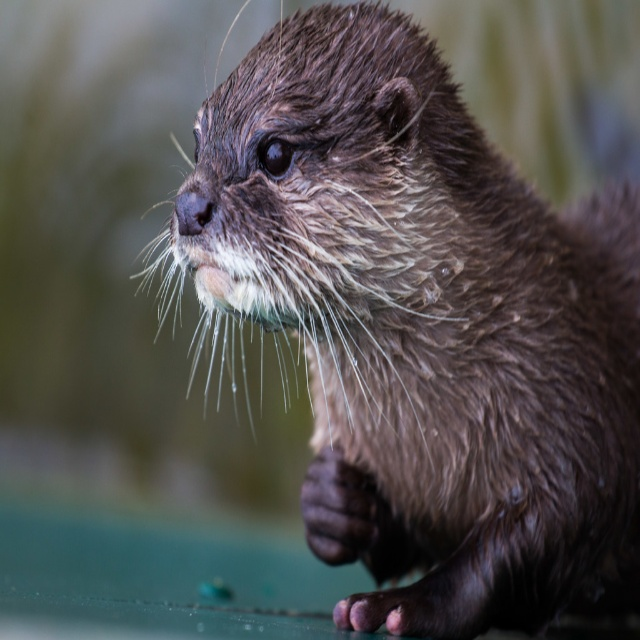Otter: (128, 0, 640, 640)
